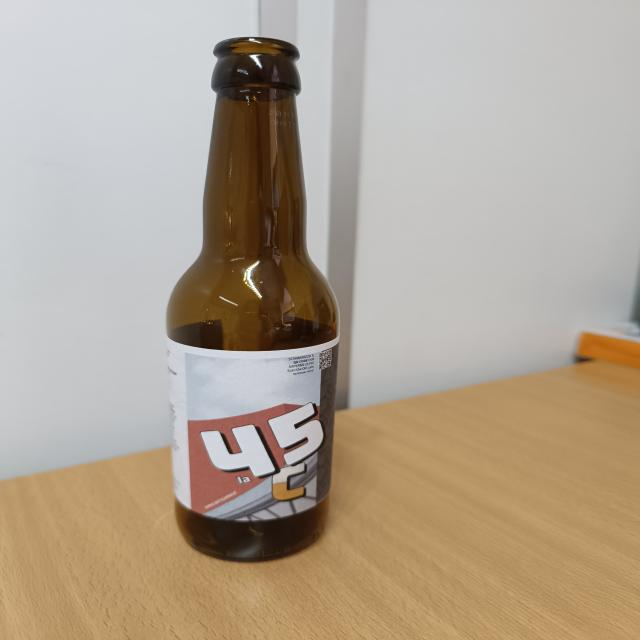Bottle: (163, 38, 333, 563)
Label: (159, 337, 335, 518), (238, 410, 242, 414)
